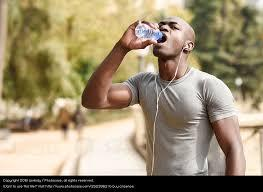Drinking: (126, 17, 195, 58)
